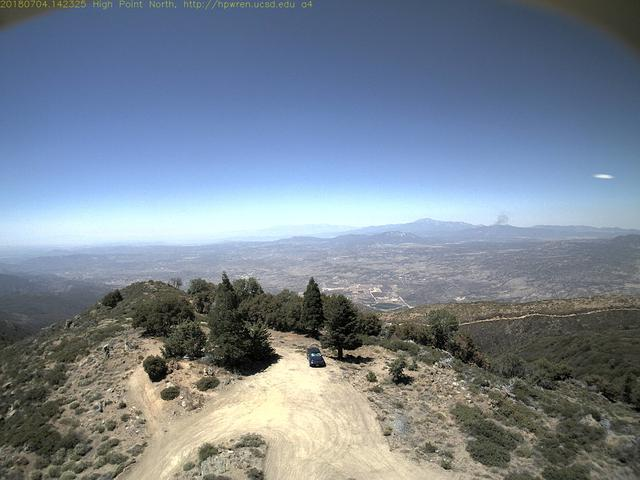smoke: (481, 208, 517, 232)
